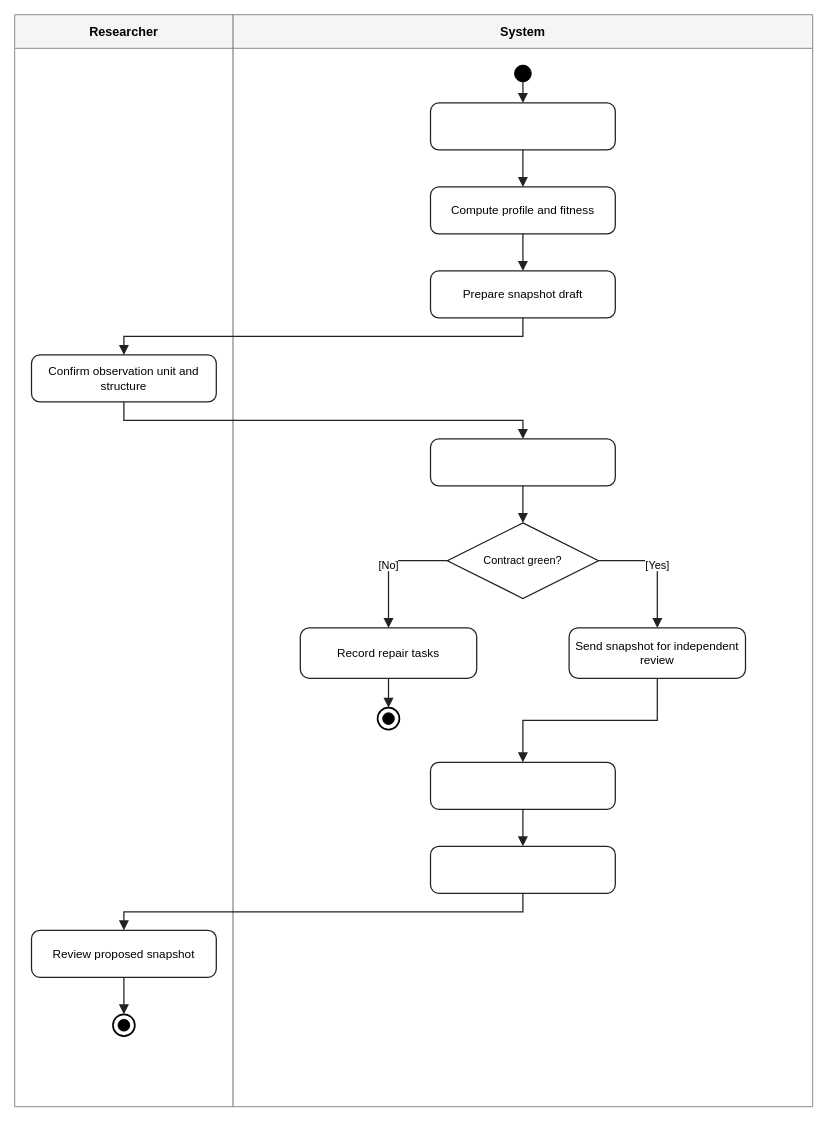
This 827x1121 diagram has some shape labels left out. Each missing label, with the box of its shape:
Create split and run checks: (429, 438, 616, 486)
Publish snapshot for acceptance: (429, 845, 616, 894)
Read pinned dataset version: (429, 102, 616, 150)
Record findings and known risks: (429, 761, 616, 810)
